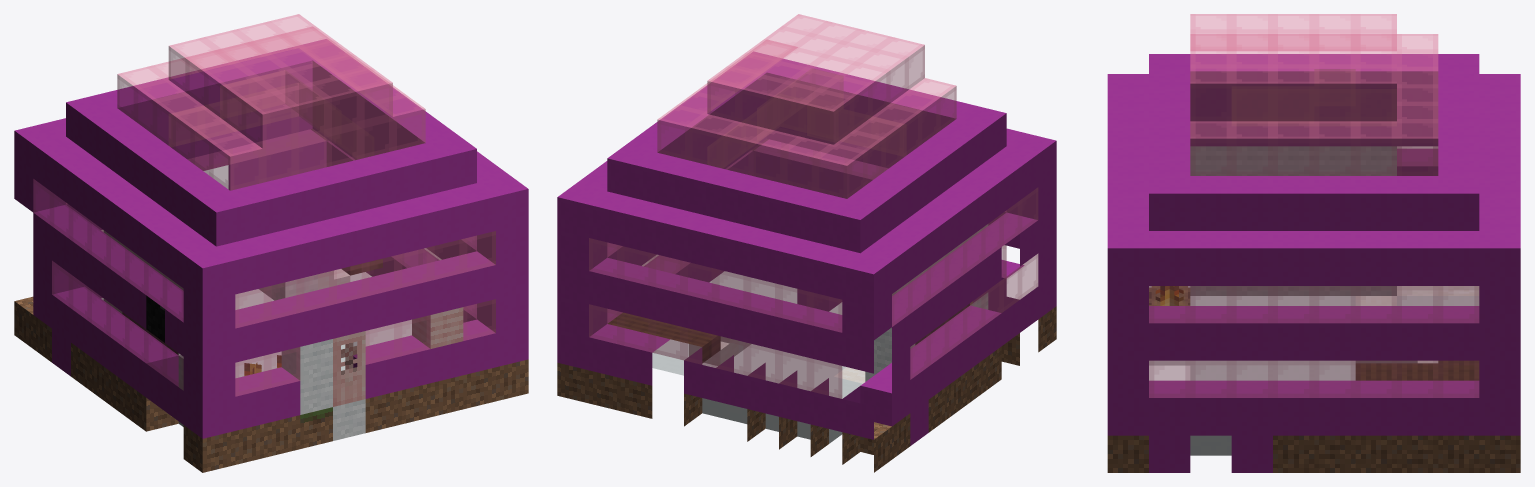
Rendered from Maquete_Manuela Ribeiro Camargo Dias.glb.
3 views of the same model, side by side, from view 1: azimuth 30°, elevation 25°; view 2: azimuth 150°, elevation 25°; view 3: azimuth 270°, elevation 25° (orthographic). The views are drawn at different scales.
Visible parts, largest first — view 1: node_6, node_3, node_4; view 2: node_6, node_3; view 3: node_6, node_3, node_5.
Part boxes in pixels (x1=…): node_6: x1=14, y1=39, x2=528, y2=472; node_3: x1=33, y1=14, x2=495, y2=396; node_4: x1=333, y1=331, x2=365, y2=406; node_6: x1=557, y1=51, x2=1056, y2=472; node_3: x1=589, y1=14, x2=1038, y2=398; node_6: x1=1107, y1=54, x2=1520, y2=472; node_3: x1=1149, y1=14, x2=1479, y2=397; node_5: x1=1149, y1=286, x2=1190, y2=305.
Bounding box in the file's own units: 10 × 9 × 10.55.
Materials: 4 (4 with a texture image).
